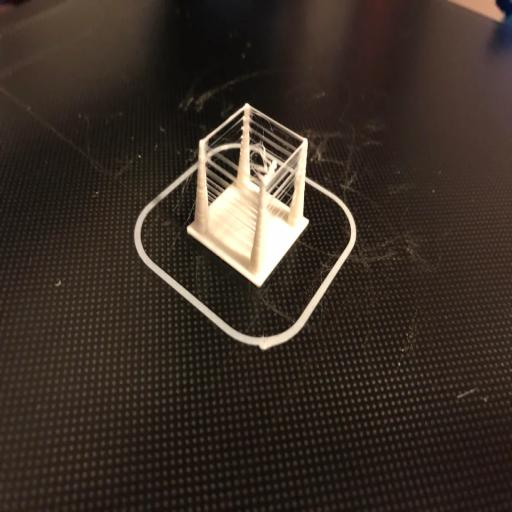stringing: (206, 145, 258, 245), (250, 103, 302, 178), (205, 105, 243, 154)
